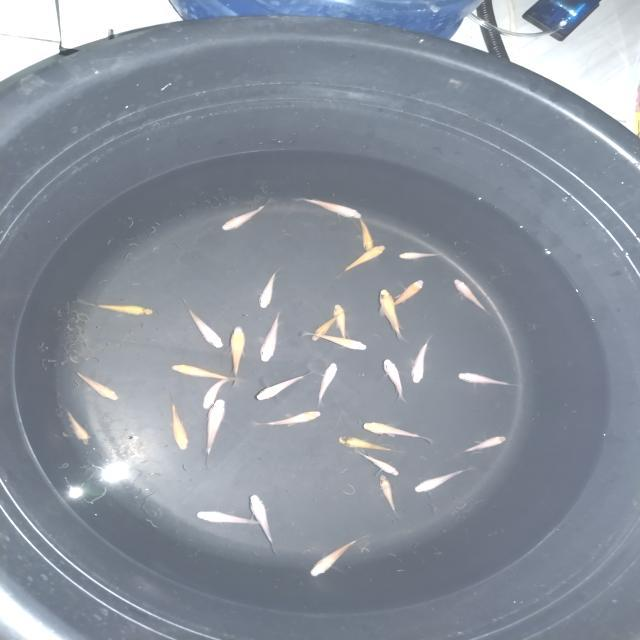nila: (304, 530, 368, 582), (176, 299, 226, 352), (357, 418, 432, 448), (248, 491, 281, 557), (218, 197, 277, 233), (70, 366, 122, 406), (451, 272, 494, 320), (332, 432, 404, 460), (199, 374, 247, 416), (251, 369, 312, 402), (200, 398, 230, 465), (299, 330, 375, 355), (188, 506, 267, 530), (162, 392, 192, 455), (336, 243, 387, 280), (412, 466, 473, 496), (292, 196, 362, 222), (168, 362, 234, 388), (57, 406, 95, 450), (256, 311, 286, 366), (248, 408, 322, 430), (346, 450, 403, 478), (386, 276, 430, 312), (375, 472, 407, 520), (80, 298, 156, 318), (379, 355, 410, 404), (376, 288, 404, 342), (456, 370, 524, 392), (409, 336, 438, 386), (314, 361, 344, 408), (227, 323, 250, 383), (309, 305, 346, 342), (258, 266, 284, 314), (460, 433, 510, 456), (328, 300, 353, 338), (394, 247, 446, 264), (356, 216, 376, 258)
